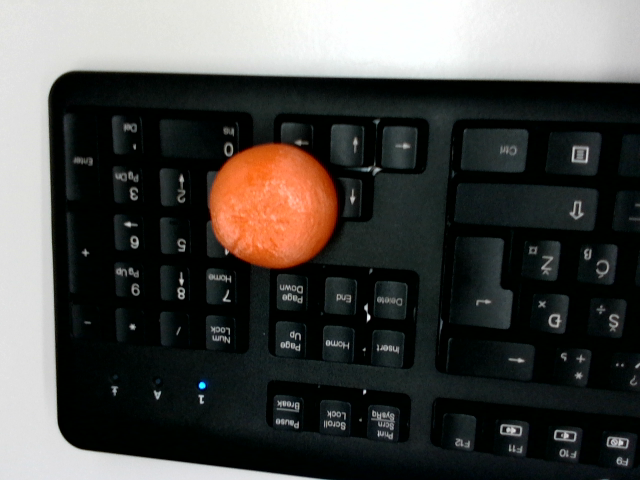orange: (210, 144, 338, 268)
